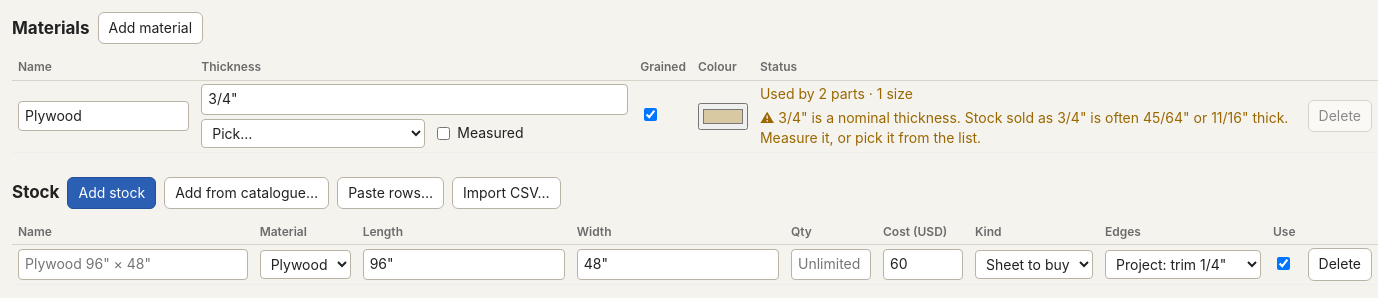
Test: StockTab › warns about a nominal thickness, and a pick sets the actual thickness and measured
The image size is (1378, 298).
Select "3/4\" → 45/64\" (Birch, Red oak, Maple, Sanded)" in the dropdown named "Pick the thickness of Plywood": [313, 133] box [201, 119, 425, 148]
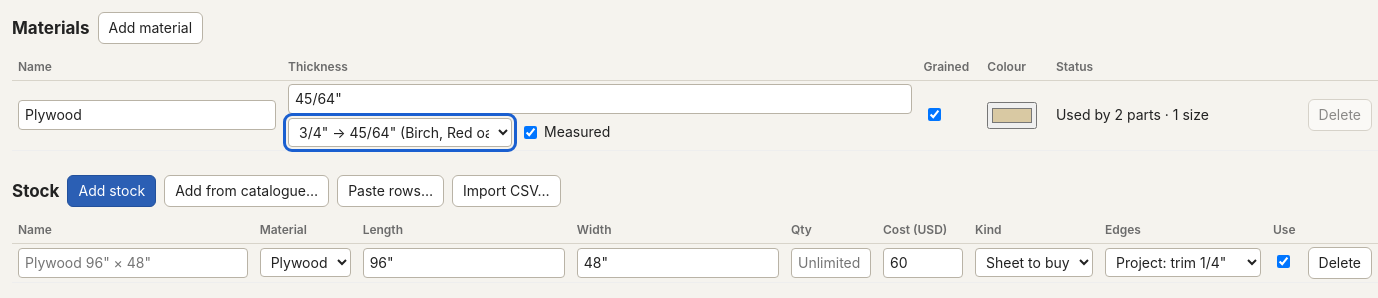
Expected: the text "nominal thickness" is gone
